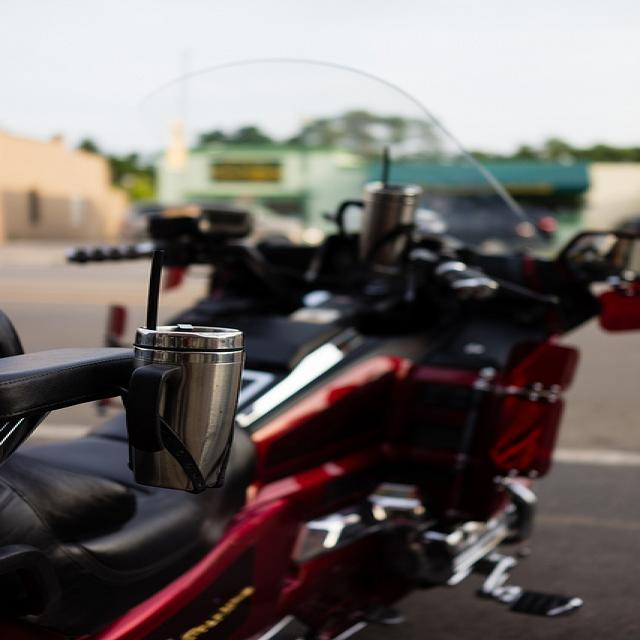motor: (0, 57, 640, 631)
